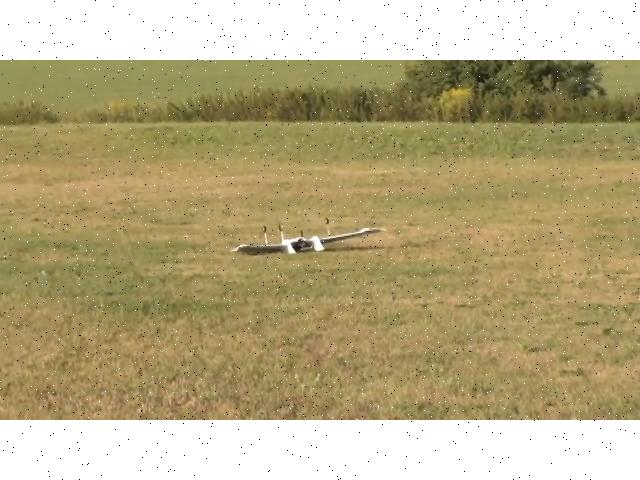Anti-Drone: (218, 196, 394, 277)
